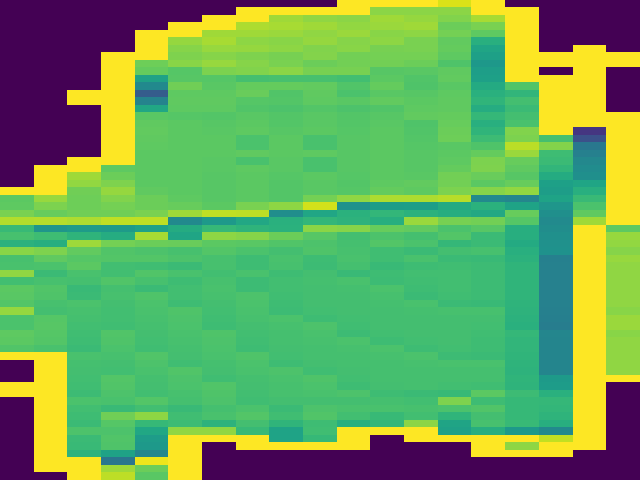car_0027: (2, 3, 640, 480)
